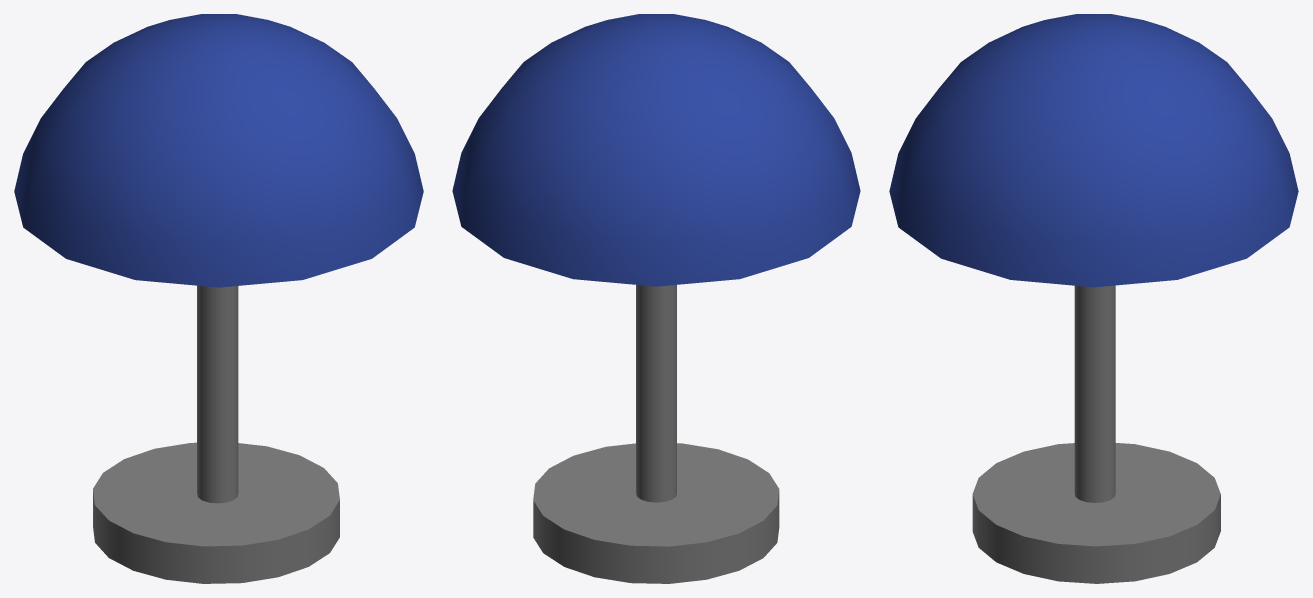
Rendered from lamp.fbx.
3 renders of one model, left to right at view 1: azimuth 30°, elevation 25°; view 2: azimuth 150°, elevation 25°; view 3: azimuth 270°, elevation 25°, orthographic.
Visible parts, largest first — view 1: pSphere1, pCylinder7, pCylinder6; view 2: pSphere1, pCylinder7, pCylinder6; view 3: pSphere1, pCylinder7, pCylinder6.
Part boxes in pixels (x1,y1,x2,y2): pSphere1: [14, 14, 423, 287]; pCylinder7: [93, 442, 339, 583]; pCylinder6: [197, 285, 238, 503]; pSphere1: [452, 14, 860, 286]; pCylinder7: [533, 443, 779, 583]; pCylinder6: [636, 285, 676, 502]; pSphere1: [889, 14, 1298, 287]; pCylinder7: [972, 443, 1220, 583]; pCylinder6: [1074, 285, 1115, 502].
Bounding box in the file's own units: 0.9837 × 1.33 × 0.9891.
